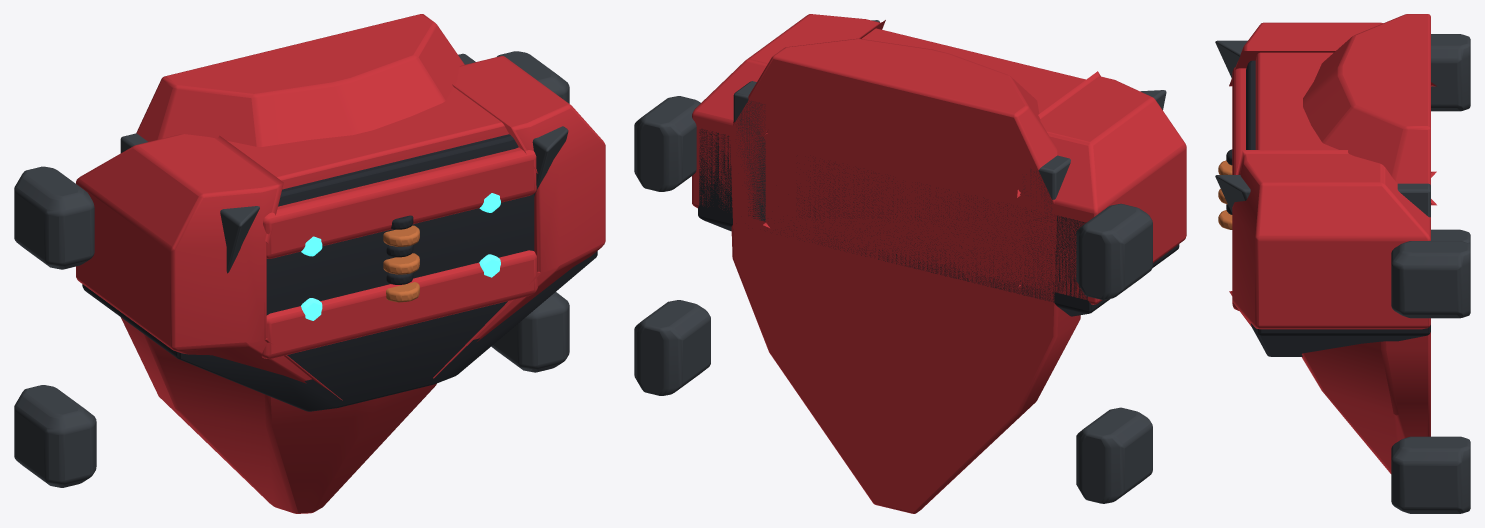
Rendered from UpperArmFront_Set06_Voltaic.fbx.
3 renders of one model, left to right at view 1: azimuth 30°, elevation 25°; view 2: azimuth 150°, elevation 25°; view 3: azimuth 270°, elevation 25°, orthographic. The views are drawn at different scales.
Parts seen in each view (by area): view 1: UpperArmFront_Set06_Voltaic; view 2: UpperArmFront_Set06_Voltaic; view 3: UpperArmFront_Set06_Voltaic.
Part boxes in pixels (bbox=[...]): UpperArmFront_Set06_Voltaic: bbox=[14, 14, 605, 513]; UpperArmFront_Set06_Voltaic: bbox=[634, 14, 1186, 513]; UpperArmFront_Set06_Voltaic: bbox=[1215, 14, 1470, 513].
Bounding box in the file's own units: 0.41 × 0.34 × 0.1929.
